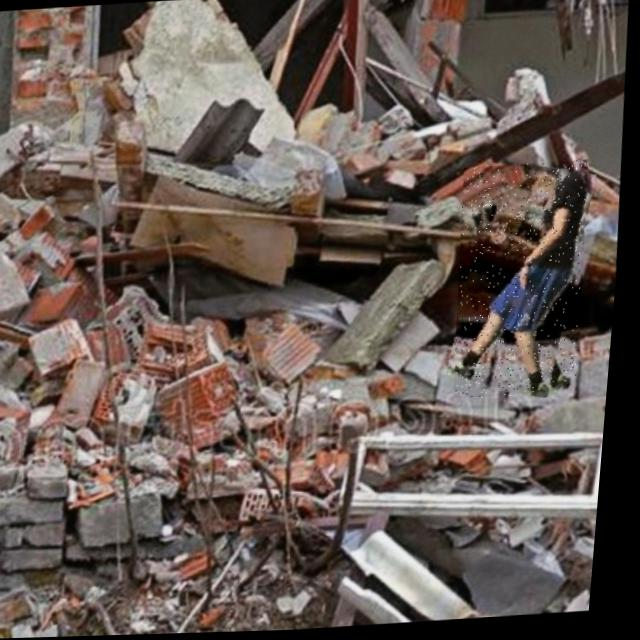Person in Rubble: (452, 163, 599, 402)
